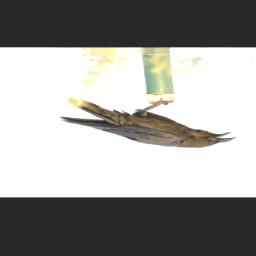Crow: (54, 95, 239, 153)
